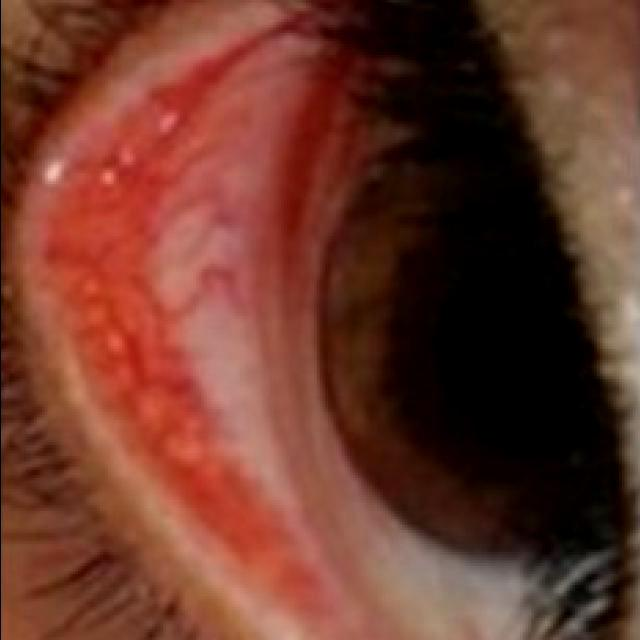conjunctiva_pallor: (34, 11, 387, 640)
